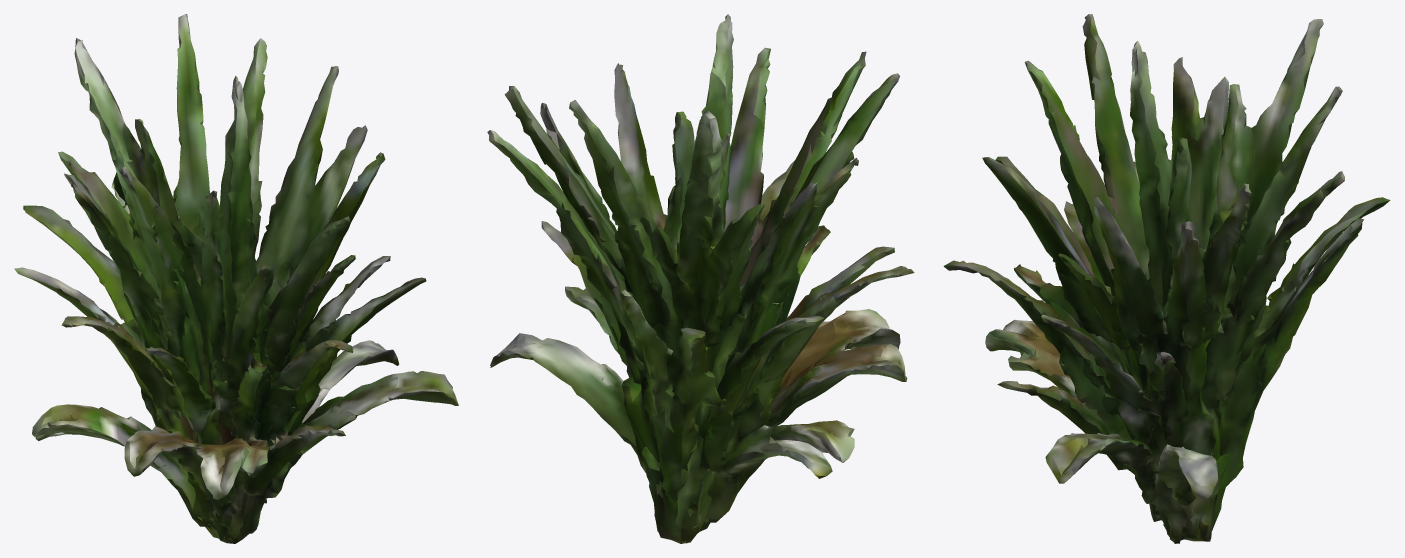
File: F3D_13_Grass.fbx
3 renders of one model, left to right at view 1: azimuth 30°, elevation 25°; view 2: azimuth 150°, elevation 25°; view 3: azimuth 270°, elevation 25°, orthographic. The views are drawn at different scales.
Parts seen in each view (by area): view 1: F3D_13_Grass; view 2: F3D_13_Grass; view 3: F3D_13_Grass.
Part boxes in pixels (x1=…): F3D_13_Grass: x1=14, y1=14, x2=458, y2=543; F3D_13_Grass: x1=487, y1=14, x2=914, y2=543; F3D_13_Grass: x1=943, y1=14, x2=1390, y2=543.
Size of the model in its own units: 0.7966 by 1 by 0.8233.
Materials: 1 (1 with a texture image).
